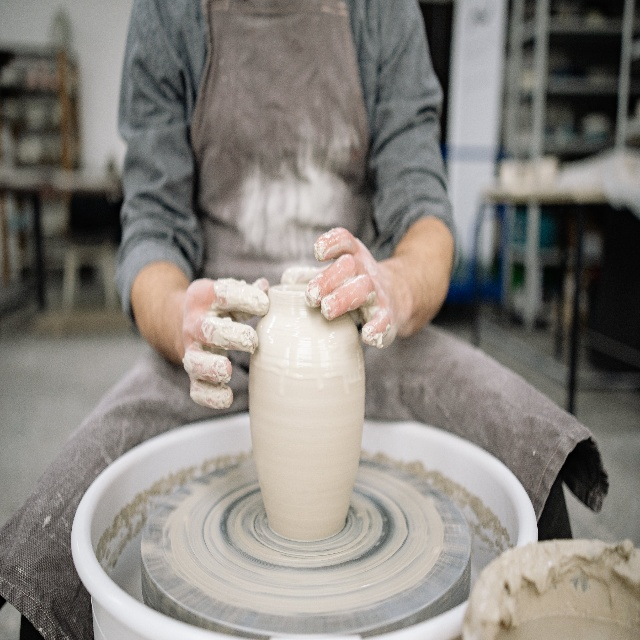Sin_guantes: (281, 228, 399, 349), (182, 276, 269, 410)
